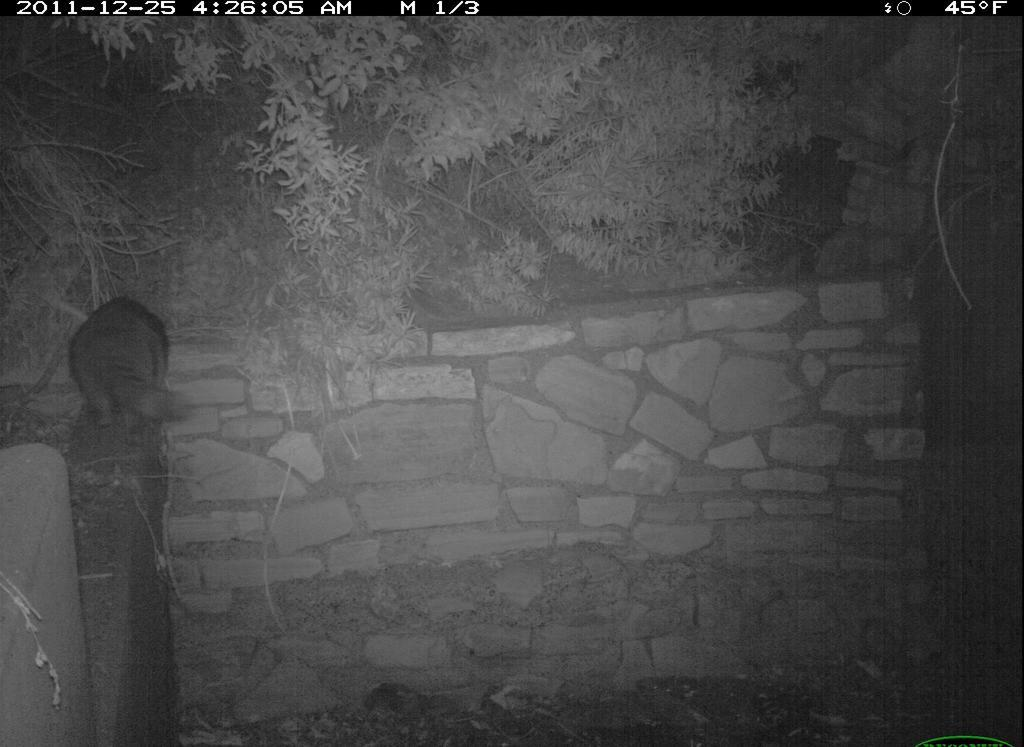raccoon: (62, 295, 198, 442)
